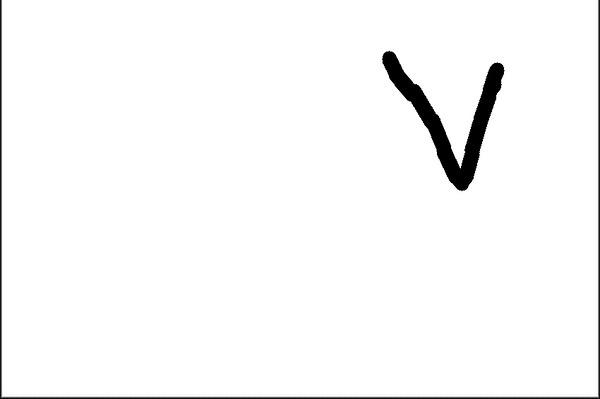V: (370, 38, 518, 193)
